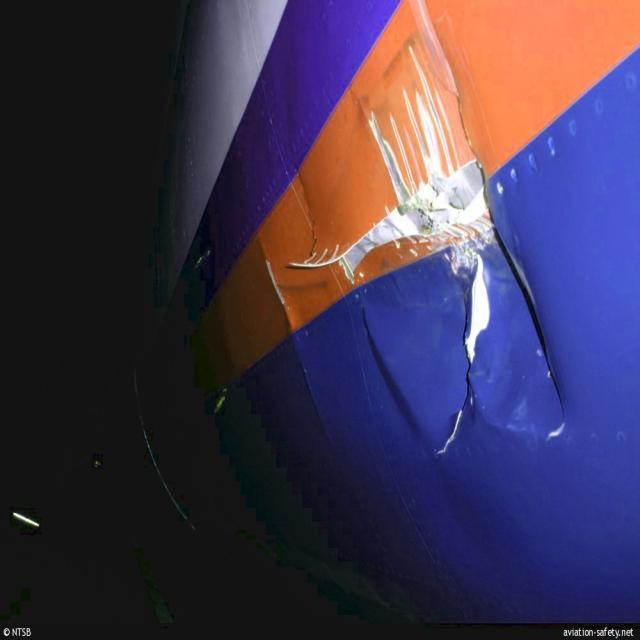crack: (439, 247, 492, 459)
dent: (481, 326, 542, 430)
